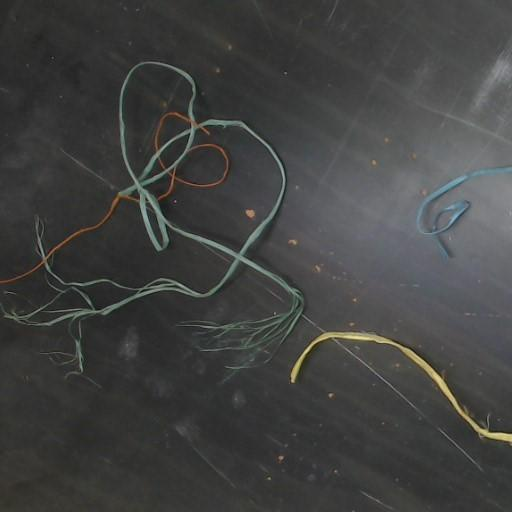conveyor belt: (0, 0, 511, 511), (54, 202, 223, 290), (165, 127, 281, 245), (123, 66, 191, 175), (194, 127, 270, 173), (220, 166, 279, 222), (176, 149, 224, 183), (178, 151, 222, 182), (215, 205, 253, 239), (160, 117, 188, 145), (161, 137, 185, 164), (149, 176, 170, 195), (195, 89, 205, 122)
thread: (0, 61, 304, 373), (290, 332, 511, 445), (416, 165, 511, 257)
